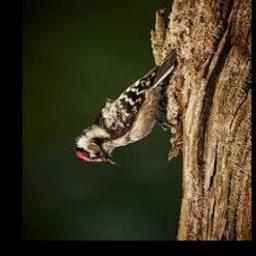Woodpecker: (73, 51, 175, 166)
